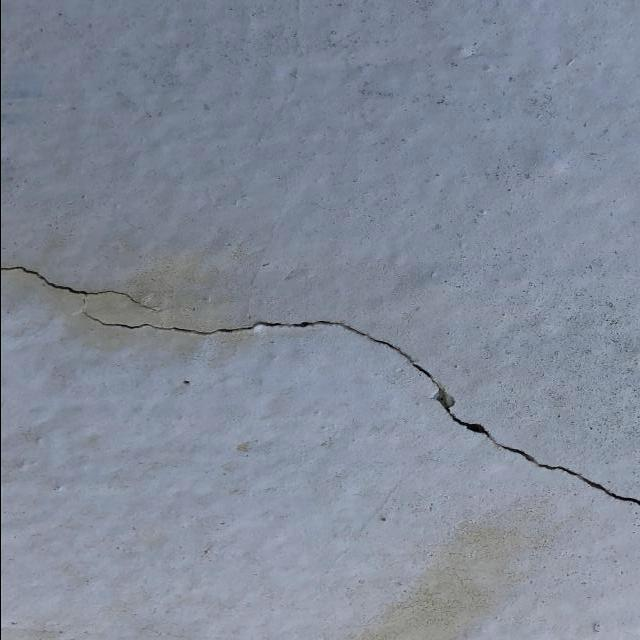SurfaceCrack: (0, 226, 639, 542)
